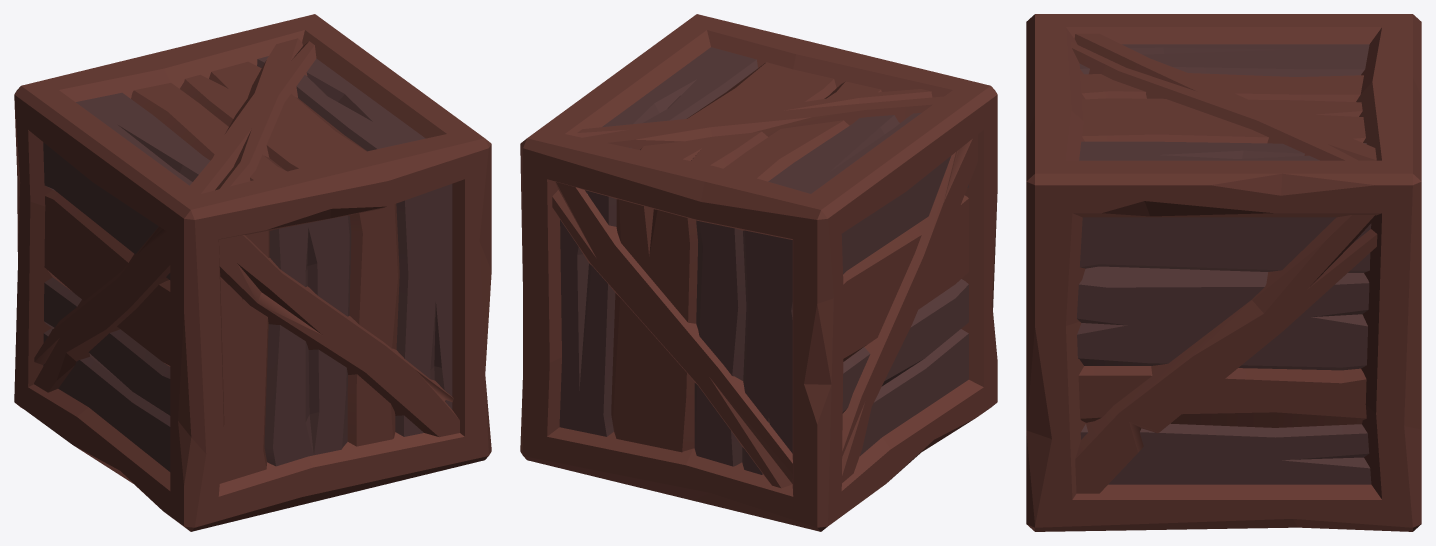
File: SM_Gen_Prop_Crate_03.glb
3 views of the same model, side by side, from view 1: azimuth 30°, elevation 25°; view 2: azimuth 150°, elevation 25°; view 3: azimuth 270°, elevation 25° (orthographic). The views are drawn at different scales.
Parts seen in each view (by area): view 1: SM_Gen_Prop_Crate_03; view 2: SM_Gen_Prop_Crate_03; view 3: SM_Gen_Prop_Crate_03.
Part boxes in pixels (<box>): SM_Gen_Prop_Crate_03: <box>14,14,491,531</box>; SM_Gen_Prop_Crate_03: <box>520,14,997,531</box>; SM_Gen_Prop_Crate_03: <box>1026,14,1421,531</box>.
Bounding box in the file's own units: 0.8573 × 0.8573 × 0.8573.
1 material, 1 textured.
